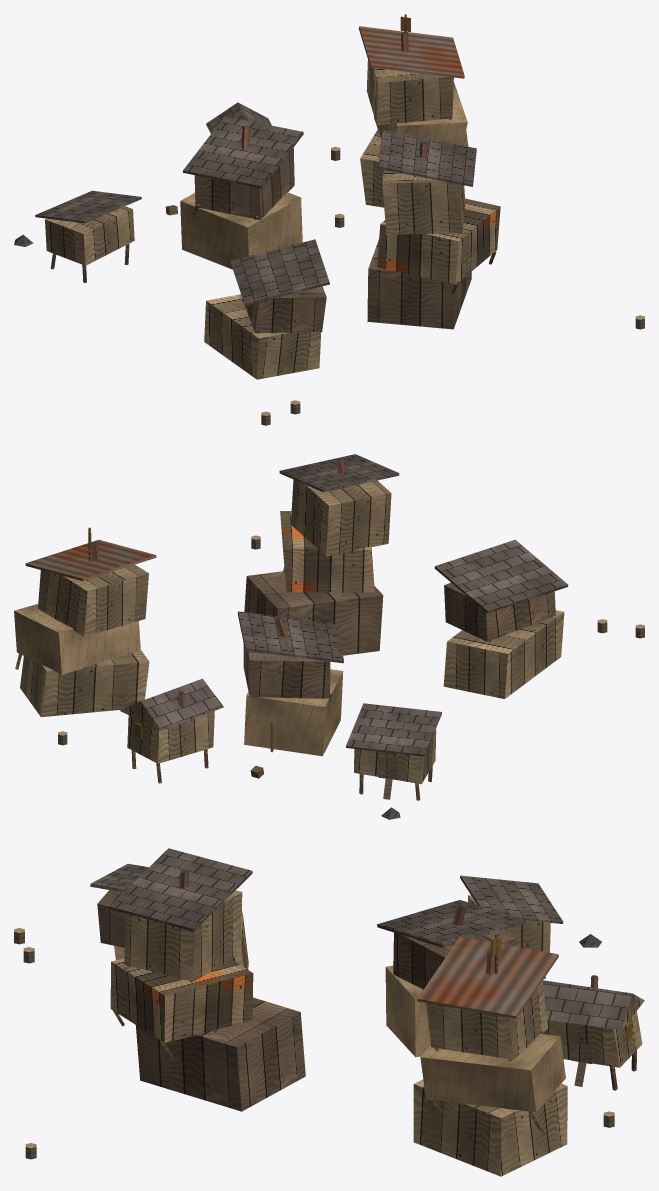
Rendered from cm_goblin_burgher_a.glb.
3 renders of one model, top to bottom at view 1: azimuth 30°, elevation 25°; view 2: azimuth 150°, elevation 25°; view 3: azimuth 270°, elevation 25°, orthographic. The views are drawn at different scales.
Visible parts, largest first — view 1: cm_goblin_burgher_a; view 2: cm_goblin_burgher_a; view 3: cm_goblin_burgher_a.
Boxes of the visible parts, x1,y1,x2,y2 form: cm_goblin_burgher_a: (14,14,644,425); cm_goblin_burgher_a: (14,454,644,819); cm_goblin_burgher_a: (14,848,644,1176).
Bounding box in the file's own units: 1.6 × 0.6552 × 1.79.
1 material, 1 textured.
